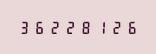eight: (77, 20, 91, 34)
one: (92, 20, 106, 34)
six: (32, 20, 46, 34), (122, 20, 136, 34)
three: (17, 20, 31, 34)
two: (47, 20, 61, 34), (62, 20, 76, 34), (107, 20, 121, 34)
